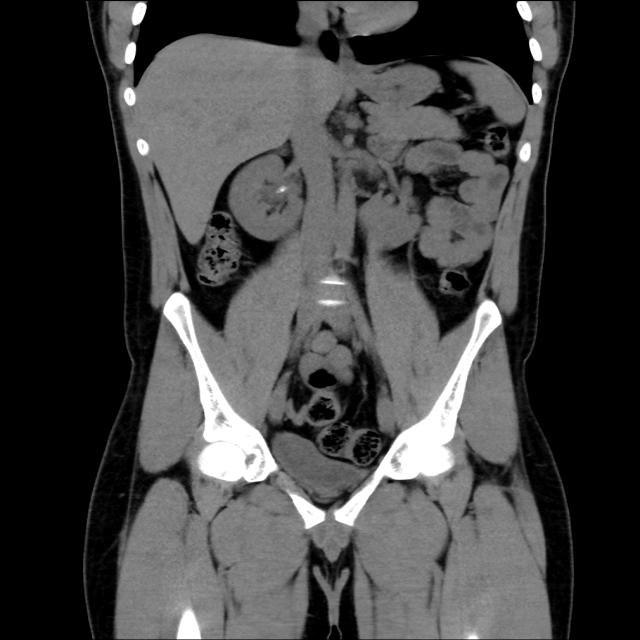kidneystone: (275, 185, 288, 194)
